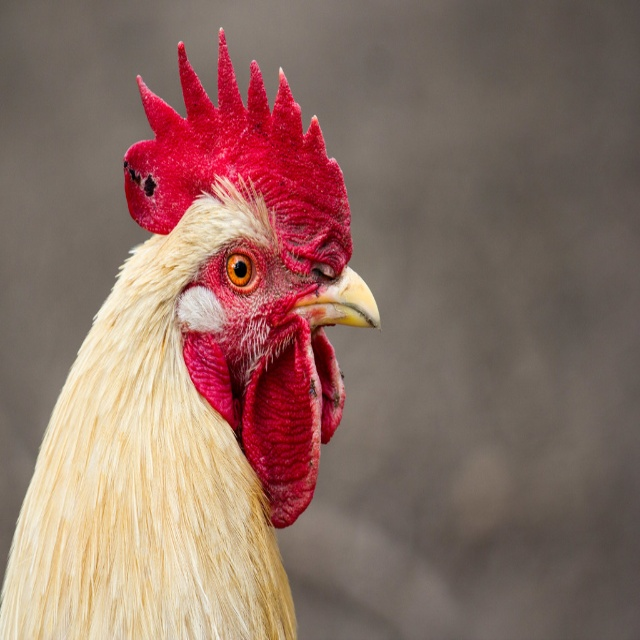Chicken: (0, 27, 382, 640)
